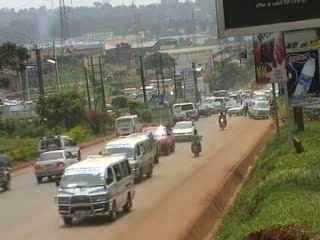Car: (32, 147, 79, 183), (138, 121, 177, 156), (36, 133, 80, 162), (169, 118, 197, 144), (226, 102, 248, 117), (196, 102, 209, 118), (224, 100, 238, 112), (206, 102, 218, 115)
Motorcycle: (0, 144, 14, 192), (187, 128, 204, 157), (216, 110, 228, 131)
